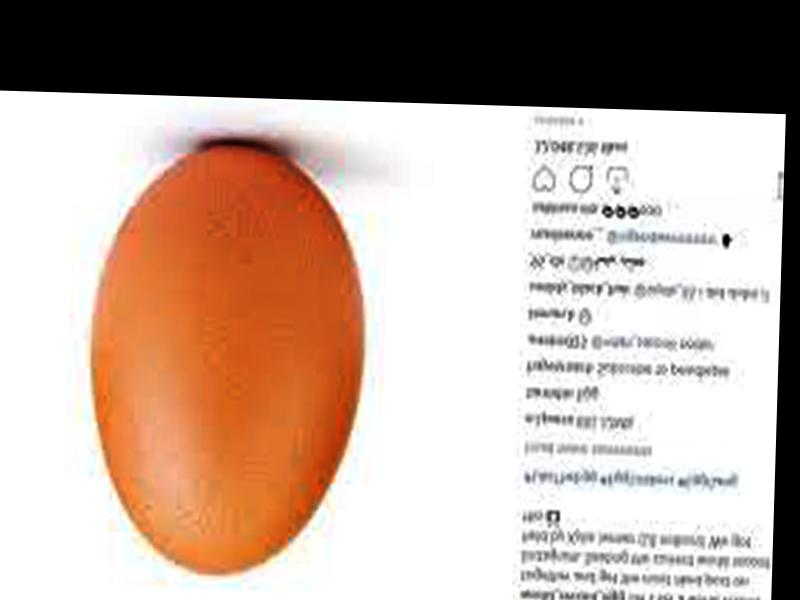Eggs: (82, 143, 368, 578)
